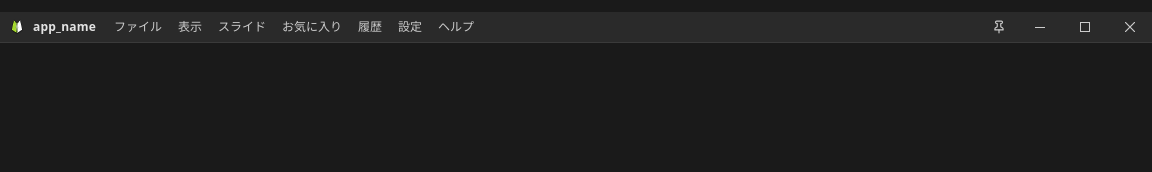
Test: MenuBar Navigation & Interactions › Escapeキーを押すとメニューが閉じる
This screenshot has width=1152, height=172.
// 「ファイル」メニューを開く
Step 1. Click the button "ファイル" → click(138, 27), box [106,12,170,42]
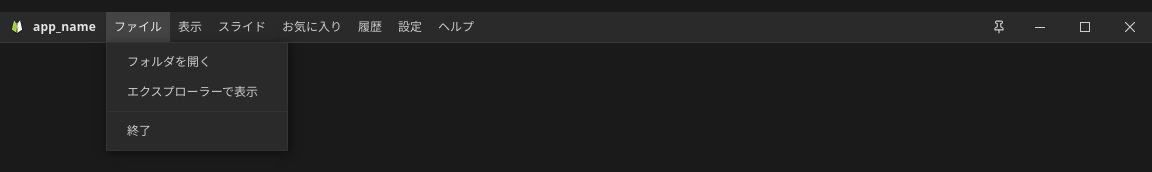
Expected: the list item "フォルダを開く" is shown, [127,53,211,70]
// Escapeキーを押す
Step 2. Press Escape
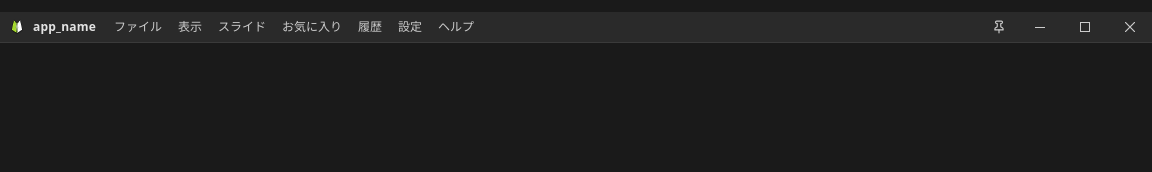
Expected: the list item "フォルダを開く" is gone
